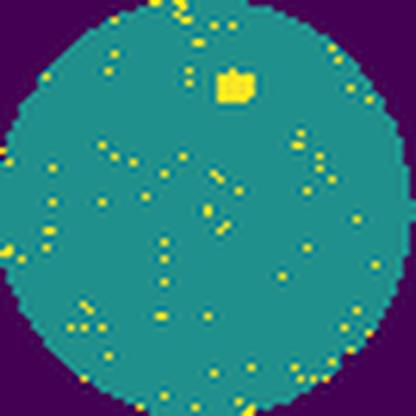Edge-Loc: (212, 72, 258, 106)
